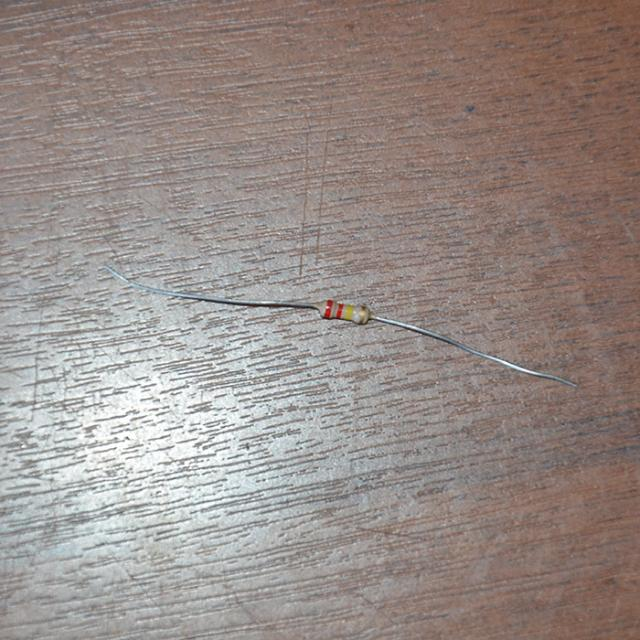gold: (358, 307, 367, 324)
red: (325, 300, 333, 317), (336, 304, 341, 318)
resistor: (316, 291, 375, 333)
yellow: (345, 304, 352, 320)
